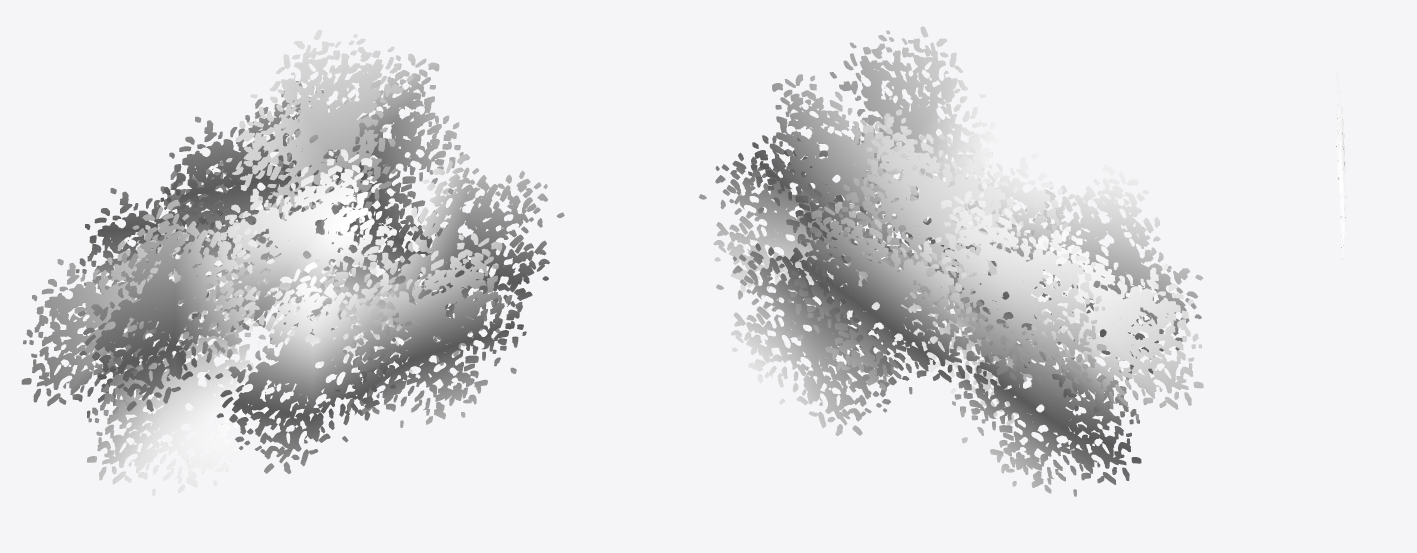
Rendered from Bush_01 1.fbx.
3 renders of one model, left to right at view 1: azimuth 30°, elevation 25°; view 2: azimuth 150°, elevation 25°; view 3: azimuth 270°, elevation 25°, orthographic. The views are drawn at different scales.
Parts seen in each view (by area): view 1: Bush, Bush.002, Bush.008, Bush.013, Bush.011, Bush.010, Bush.009, Bush.001, Bush.012, Bush.003, Bush.006, Bush.004 (+1 smaller); view 2: Bush.005, Bush.006, Bush.010, Bush.001, Bush.004, Bush.012, Bush.003, Bush.013, Bush.002, Bush.009, Bush.011, Bush (+1 smaller); view 3: Bush.013.
Part boxes in pixels (x1,y1,x2,y2): Bush: (215, 262, 411, 473); Bush.002: (77, 200, 274, 411); Bush.008: (335, 233, 526, 427); Bush.013: (226, 29, 413, 219); Bush.011: (205, 149, 396, 343); Bush.010: (87, 306, 272, 496); Bush.009: (367, 154, 564, 365); Bush.001: (21, 223, 208, 418); Bush.012: (277, 53, 463, 248); Bush.003: (159, 81, 337, 274); Bush.006: (74, 160, 259, 343); Bush.004: (281, 200, 474, 404); Bush.005: (787, 201, 976, 394); Bush.006: (917, 191, 1106, 383); Bush.010: (952, 309, 1141, 496); Bush.001: (1018, 229, 1203, 421); Bush.004: (716, 226, 909, 436); Bush.012: (748, 74, 927, 263); Bush.003: (839, 116, 1026, 305); Bush.013: (829, 26, 1006, 223); Bush.002: (1012, 165, 1203, 373); Bush.009: (699, 138, 892, 330); Bush.011: (883, 119, 1071, 307); Bush: (910, 222, 1075, 425); Bush.013: (1335, 67, 1346, 274).
Size of the model in its own units: 610 by 474 by 113.
